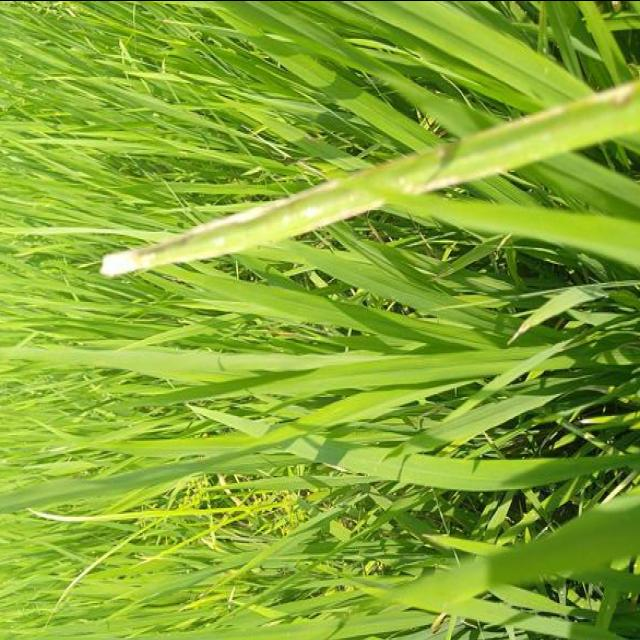Leaf Blight: (102, 139, 461, 276)
